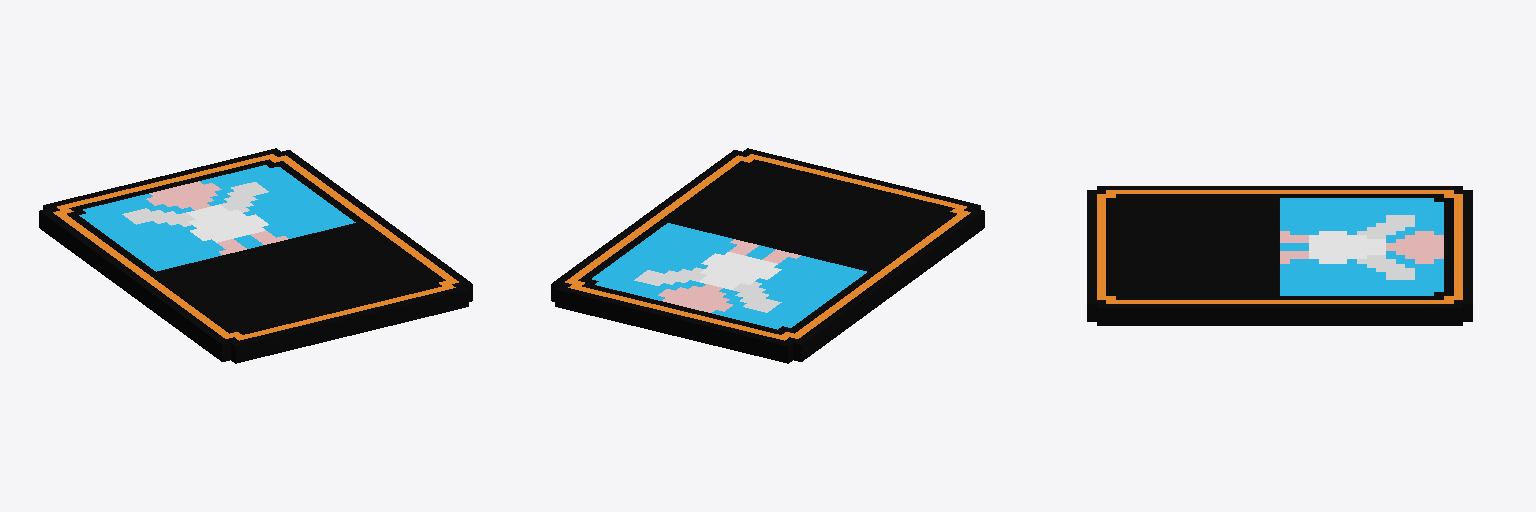
3 renders of one model, left to right at view 1: azimuth 30°, elevation 25°; view 2: azimuth 150°, elevation 25°; view 3: azimuth 270°, elevation 25°, orthographic.
Parts seen in each view (by area): view 1: object 1; view 2: object 1; view 3: object 1.
Boxes of the visible parts, x1=… form: object 1: x1=39, y1=148, x2=472, y2=363; object 1: x1=551, y1=148, x2=984, y2=363; object 1: x1=1087, y1=186, x2=1472, y2=325.
Size of the model in its own units: 3 by 0.2 by 4.
Materials: 1 (1 with a texture image).